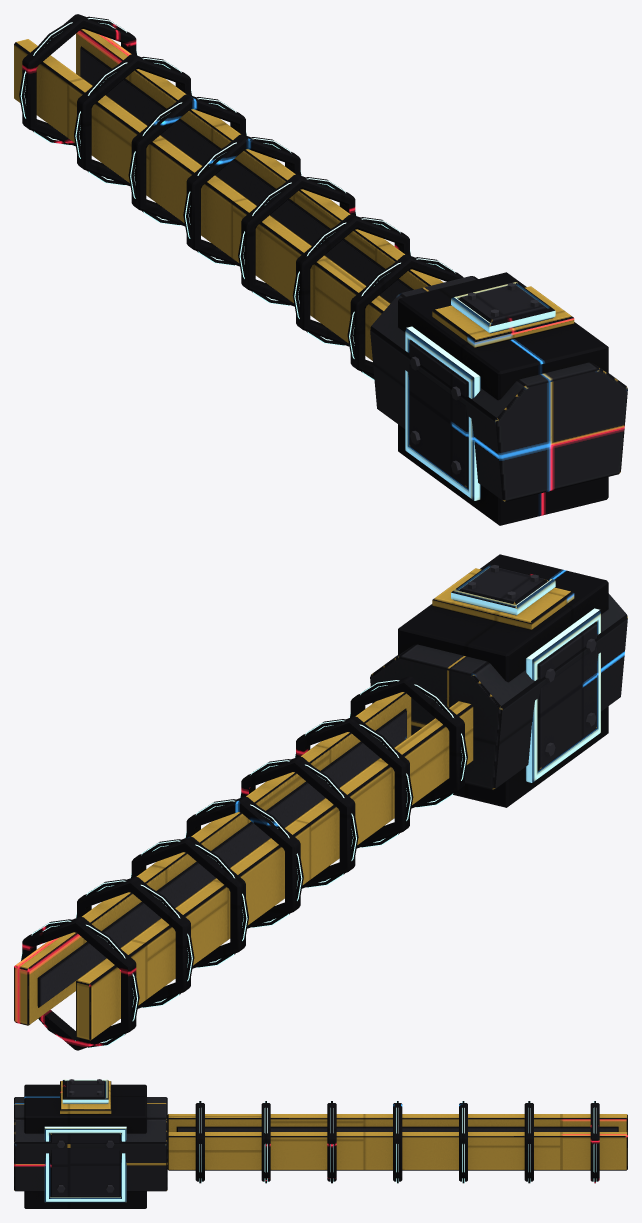
Rendered from railgun_t4.fbx.
The picture shows the model from 3 angles, top to bottom: view 1: azimuth 30°, elevation 25°; view 2: azimuth 150°, elevation 25°; view 3: azimuth 270°, elevation 25°; orthographic projection. The views are drawn at different scales.
Visible parts, largest first — view 1: railgun_t4, railgun_t4_neon; view 2: railgun_t4, railgun_t4_neon; view 3: railgun_t4, railgun_t4_neon.
Boxes of the visible parts, x1,y1,x2,y2 form: railgun_t4: (14,14,627,525); railgun_t4_neon: (20,18,455,380); railgun_t4: (14,554,627,1050); railgun_t4_neon: (20,680,466,1047); railgun_t4: (14,1079,627,1208); railgun_t4_neon: (199,1101,596,1182).
Bounding box in the file's own units: 1.88 × 2.31 × 12.
